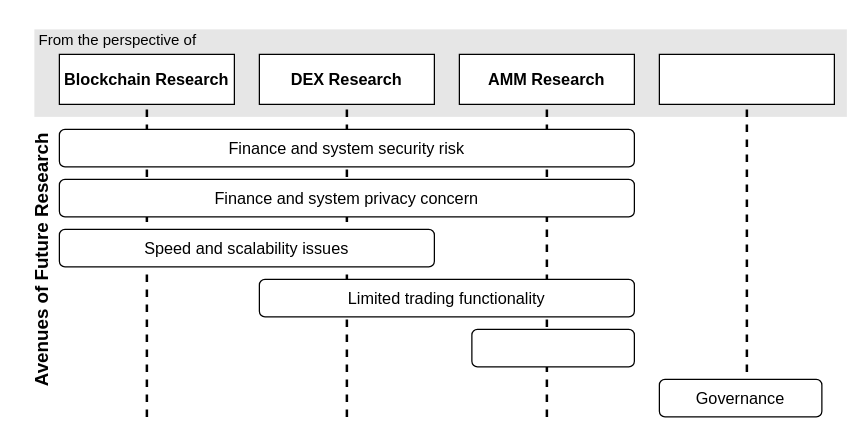
Some shapes in this 868 by 440 pixel diagram are drawn without their labels. The centre of each missing label's shape, as x and y in pixels:
New design for AMM: the point at 552,347
Sociology Research: the point at 746,78
